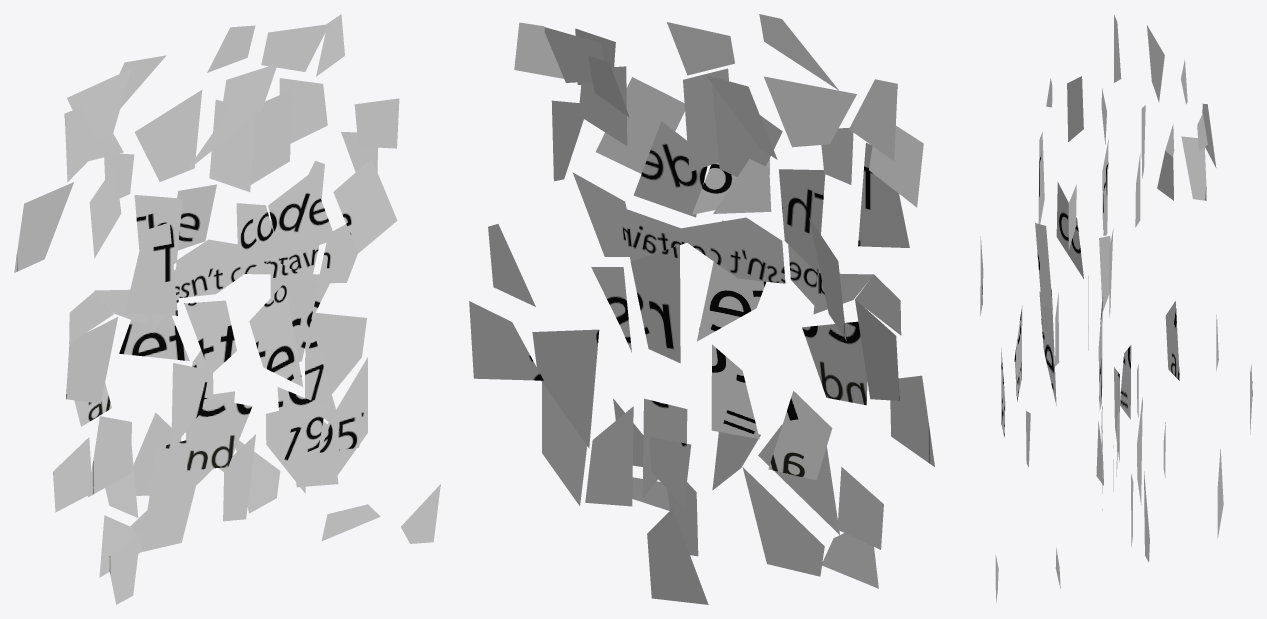
Rendered from letter.glb.
3 views of the same model, side by side, from view 1: azimuth 30°, elevation 25°; view 2: azimuth 150°, elevation 25°; view 3: azimuth 270°, elevation 25° (orthographic). The views are drawn at different scales.
Visible parts, largest first — view 1: letter; view 2: letter; view 3: letter.
Part boxes in pixels (x1=…): letter: x1=14, y1=14, x2=440, y2=604; letter: x1=469, y1=14, x2=934, y2=604; letter: x1=980, y1=15, x2=1252, y2=602.
Size of the model in its own units: 0.2173 by 0.3028 by 0.165.
Materials: 1 (1 with a texture image).
